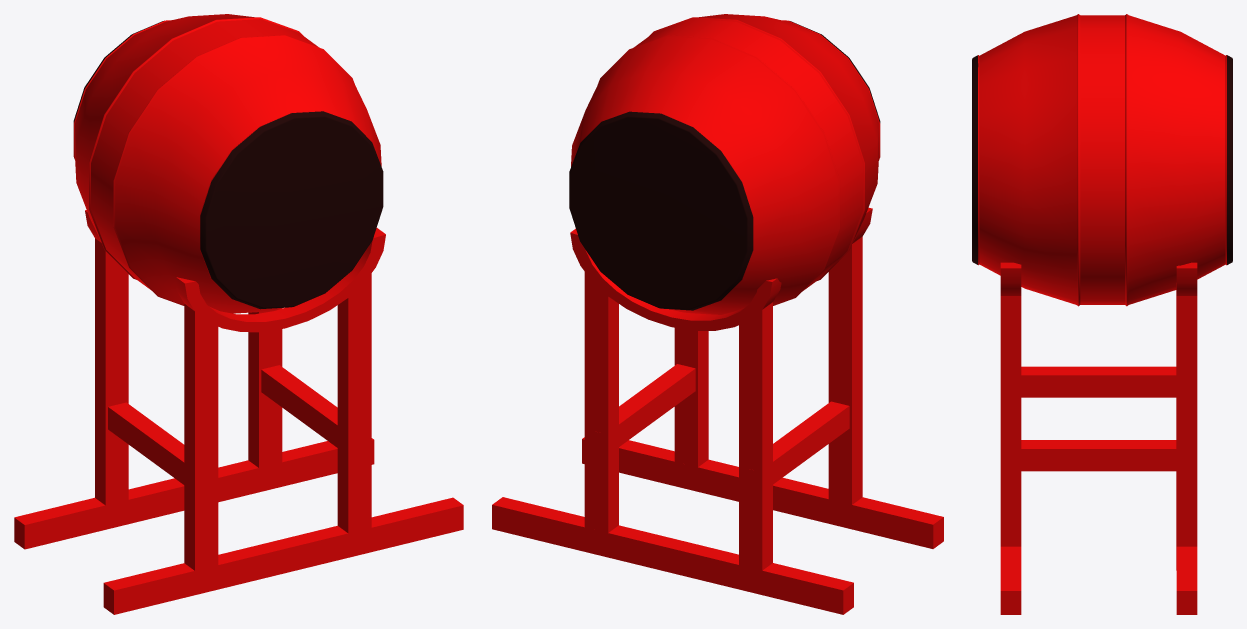
The model's file is Trong.fbx.
The picture shows the model from 3 angles, left to right: view 1: azimuth 30°, elevation 25°; view 2: azimuth 150°, elevation 25°; view 3: azimuth 270°, elevation 25°; orthographic projection. The views are drawn at different scales.
Parts seen in each view (by area): view 1: Trong, Line003; view 2: Trong, Line003; view 3: Trong, Line003.
Boxes of the visible parts, x1,y1,x2,y2 form: Trong: [73, 14, 383, 313]; Line003: [14, 210, 463, 614]; Trong: [569, 14, 880, 314]; Line003: [492, 207, 943, 614]; Trong: [972, 14, 1232, 306]; Line003: [1000, 262, 1197, 614].
Bounding box in the file's own units: 150 × 208 × 98.38.
